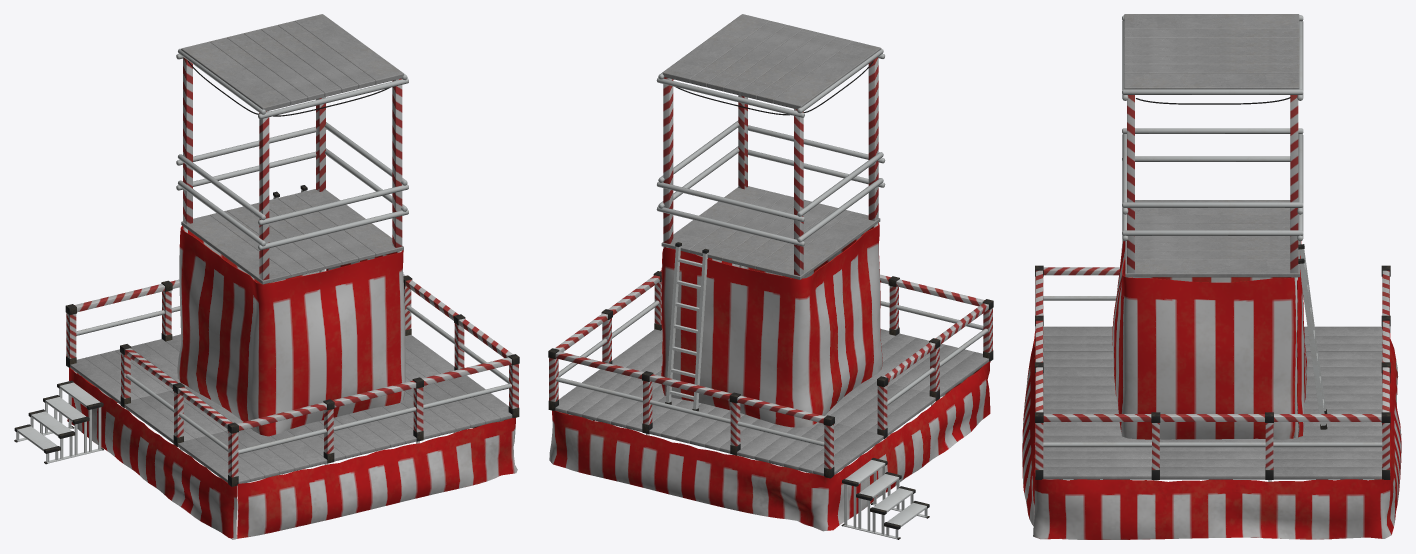
Rendered from Tower.fbx.
The picture shows the model from 3 angles, left to right: view 1: azimuth 30°, elevation 25°; view 2: azimuth 150°, elevation 25°; view 3: azimuth 270°, elevation 25°; orthographic projection. The views are drawn at different scales.
Visible parts, largest first — view 1: Tower; view 2: Tower; view 3: Tower.
Boxes of the visible parts, <box> form: Tower: <box>14,14,519,539</box>; Tower: <box>548,14,993,539</box>; Tower: <box>1022,14,1401,539</box>.
Bounding box in the file's own units: 6.91 × 7.15 × 5.95.
